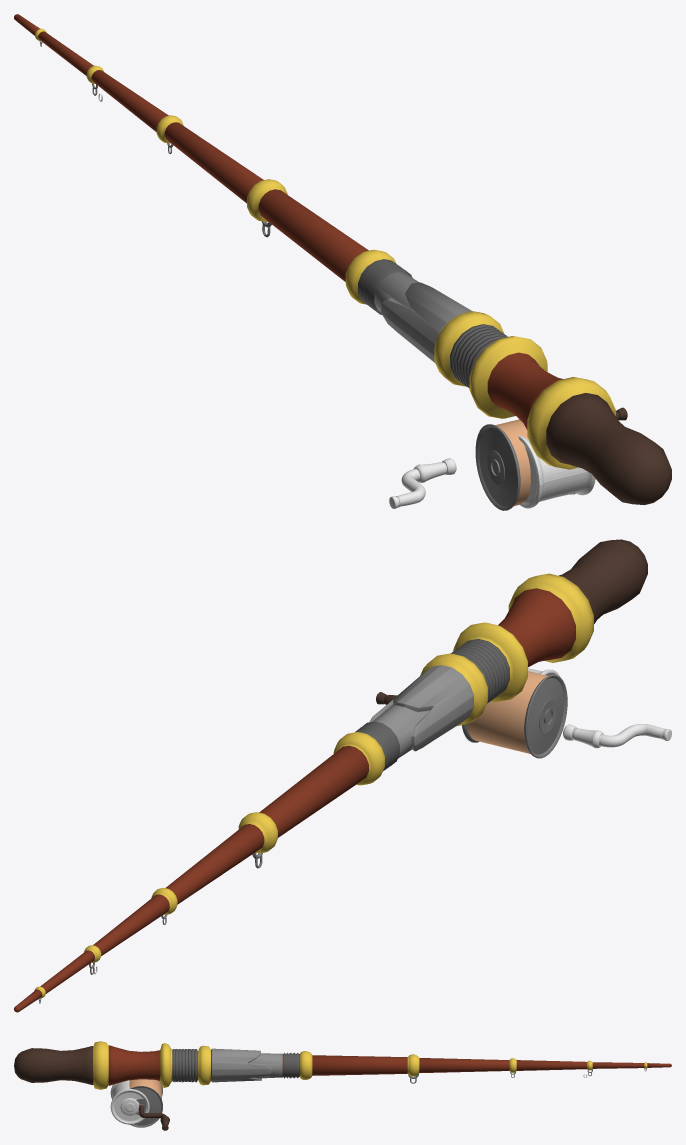
Rendered from fishingRod.glb.
3 views of the same model, one above another, from view 1: azimuth 30°, elevation 25°; view 2: azimuth 150°, elevation 25°; view 3: azimuth 270°, elevation 25° (orthographic). The views are drawn at different scales.
Visible parts, largest first — view 1: fishing rod, roller, Cylinder.001, Cylinder.002; view 2: fishing rod, roller, Cylinder.002; view 3: fishing rod, Cylinder.001, roller, grap handle.
Boxes of the visible parts, <box> form: fishing rod: <box>14,14,671,504</box>; roller: <box>475,419,575,510</box>; Cylinder.001: <box>518,435,595,508</box>; Cylinder.002: <box>389,458,456,508</box>; fishing rod: <box>14,539,647,1012</box>; roller: <box>462,671,567,758</box>; Cylinder.002: <box>563,724,671,748</box>; fishing rod: <box>14,1041,671,1089</box>; Cylinder.001: <box>110,1080,149,1124</box>; roller: <box>129,1079,162,1127</box>; grap handle: <box>139,1105,169,1130</box>.
Bounding box in the file's own units: 0.8131 × 0.4279 × 3.36.
